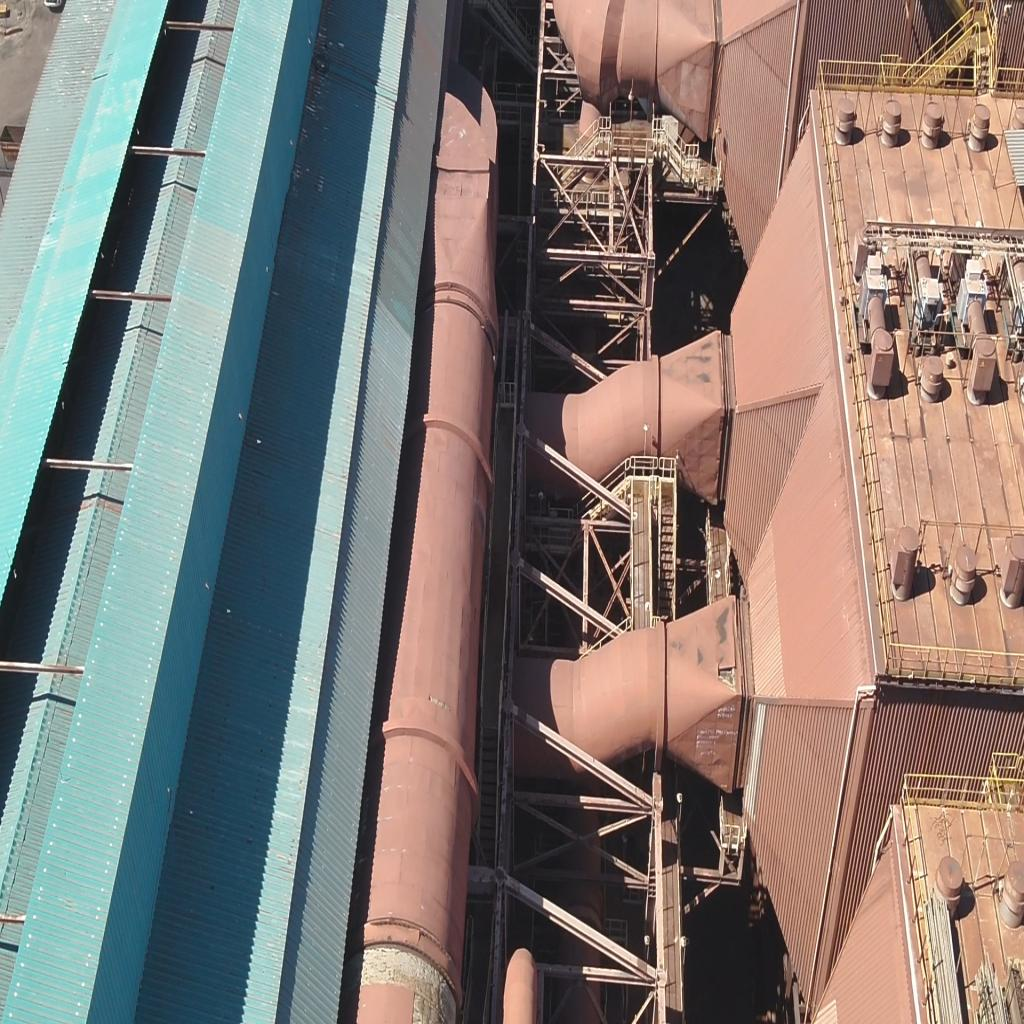Failures: (354, 931, 458, 1024), (714, 657, 740, 694)
